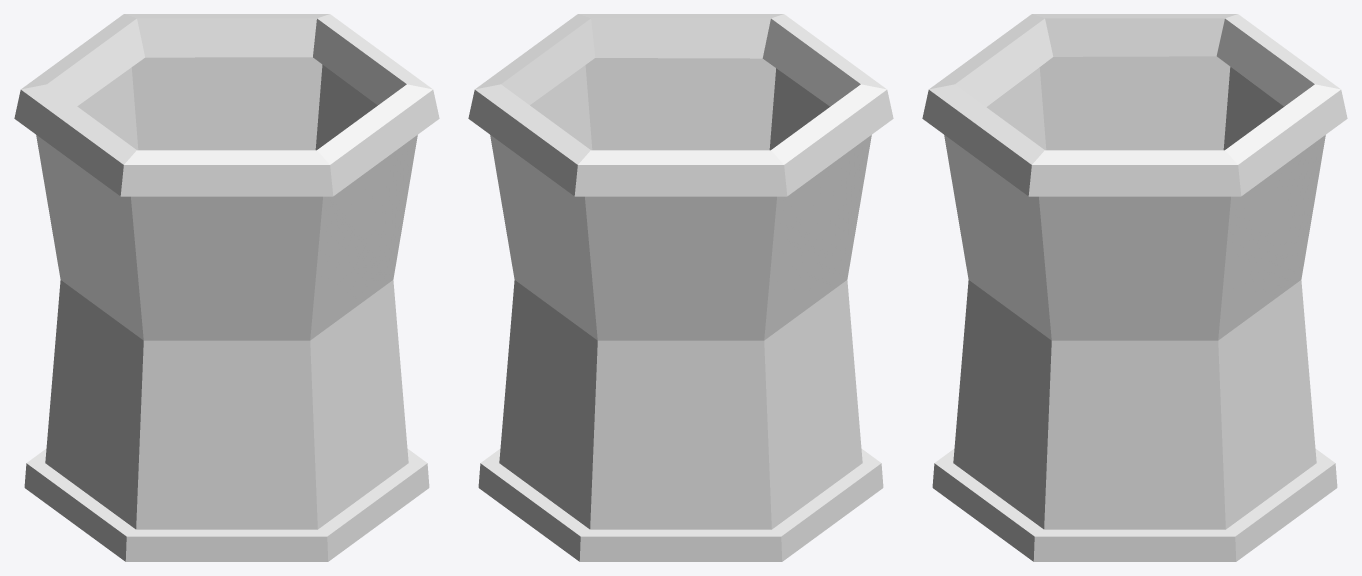
The model's file is officeTrashcan.glb.
3 renders of one model, left to right at view 1: azimuth 30°, elevation 25°; view 2: azimuth 150°, elevation 25°; view 3: azimuth 270°, elevation 25°, orthographic.
Visible parts, largest first — view 1: trash_Can_office; view 2: trash_Can_office; view 3: trash_Can_office.
Part boxes in pixels (x1,y1,x2,y2): trash_Can_office: (14,14,439,561); trash_Can_office: (468,14,893,561); trash_Can_office: (922,14,1347,561).
Size of the model in its own units: 0.626 by 0.757 by 0.7229.
Materials: 2 (2 with a texture image).
